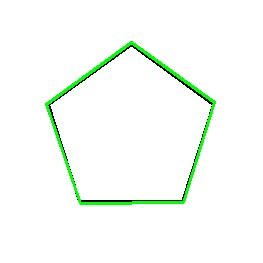line_segment: (46, 42, 215, 204)
